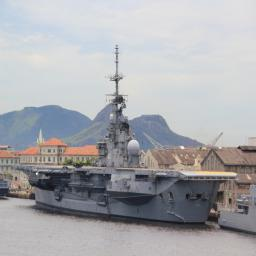Portanaves: (13, 43, 241, 227)
